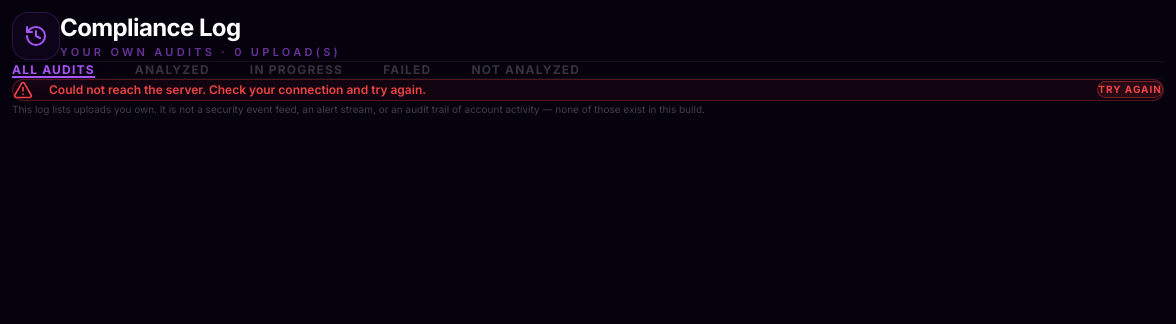
Test: loading, empty and error states › offers a retry when the backend is unreachable
This screenshot has width=1176, height=324.
Check: the message shows "Could not reach the server", box [49,82,426,96]
Click the button "Try again" at (1130, 90), box [1097,81,1163,98]
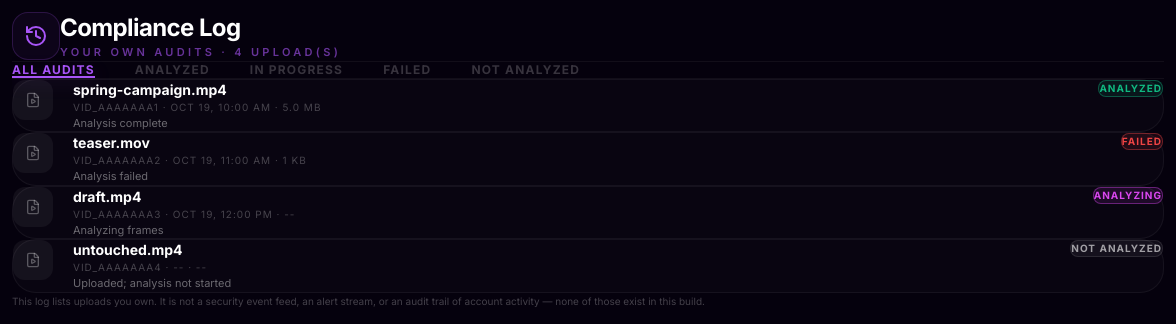
Check: the heading "spring-campaign.mp4" is shown, box [73,80,227,98]
